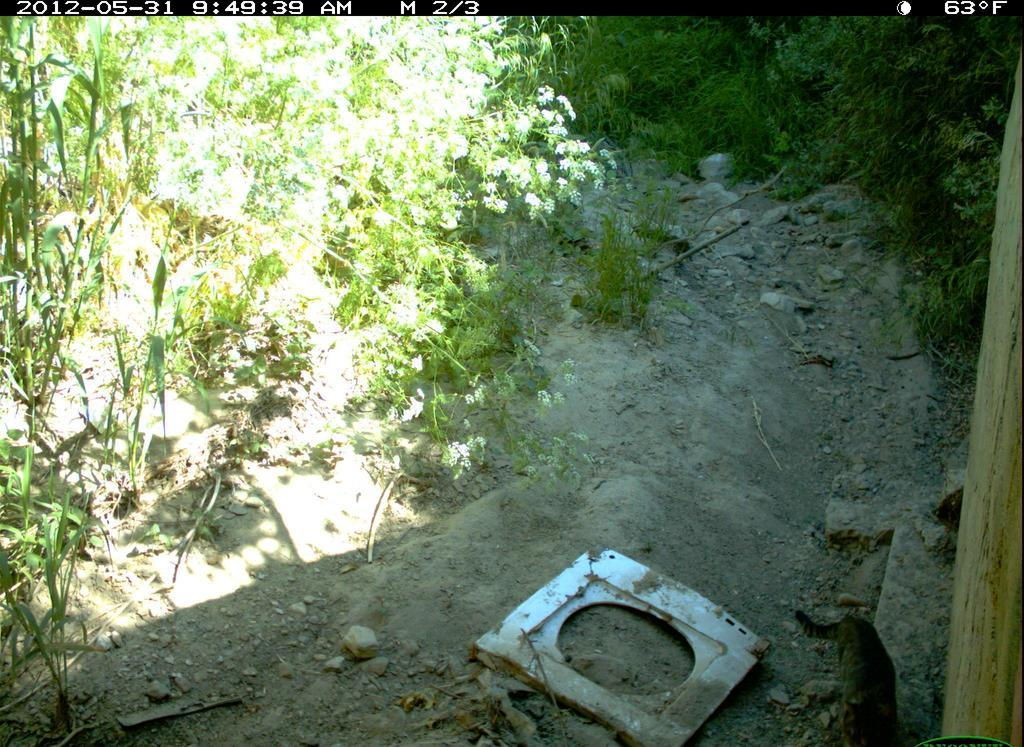cat: (793, 594, 916, 743)
